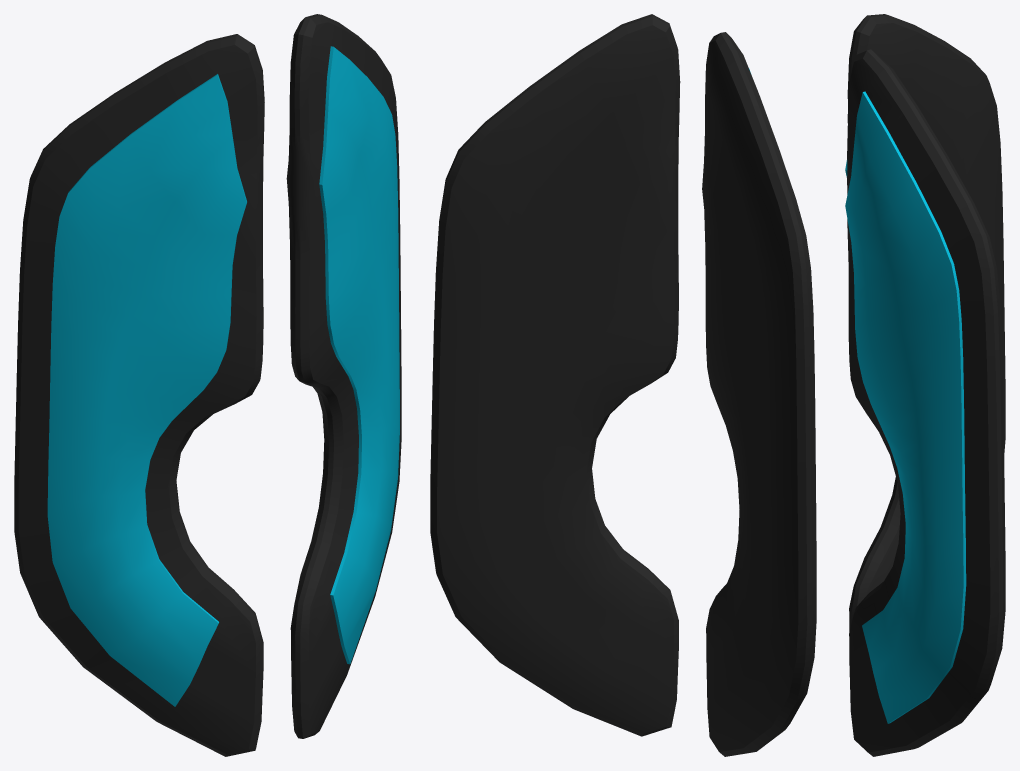
File: MagicalShield.fbx
The picture shows the model from 3 angles, left to right: view 1: azimuth 30°, elevation 25°; view 2: azimuth 150°, elevation 25°; view 3: azimuth 270°, elevation 25°; orthographic projection. The views are drawn at different scales.
Parts seen in each view (by area): view 1: MagicalShield; view 2: MagicalShield; view 3: MagicalShield.
Boxes of the visible parts, <box> form: MagicalShield: <box>14,14,401,756</box>; MagicalShield: <box>430,14,816,756</box>; MagicalShield: <box>845,14,1005,756</box>.
Bounding box in the file's own units: 236 × 424 × 87.88.
Materials: 1 (1 with a texture image).
